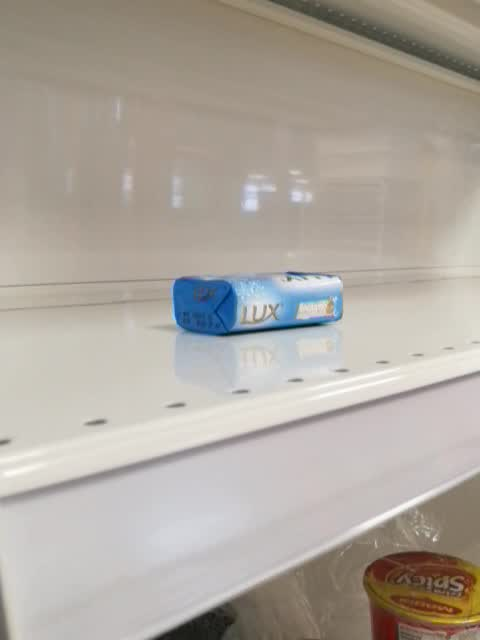soap: (169, 269, 345, 336)
